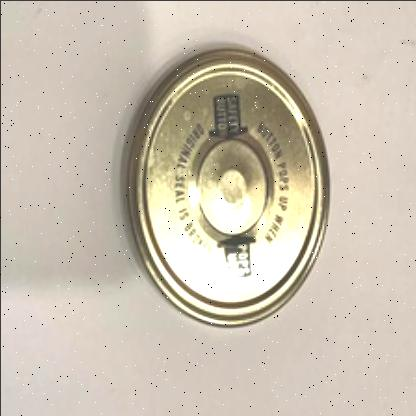Can: (125, 48, 327, 326)
